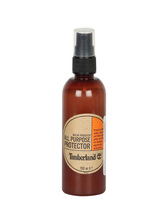other: (58, 27, 115, 201)
